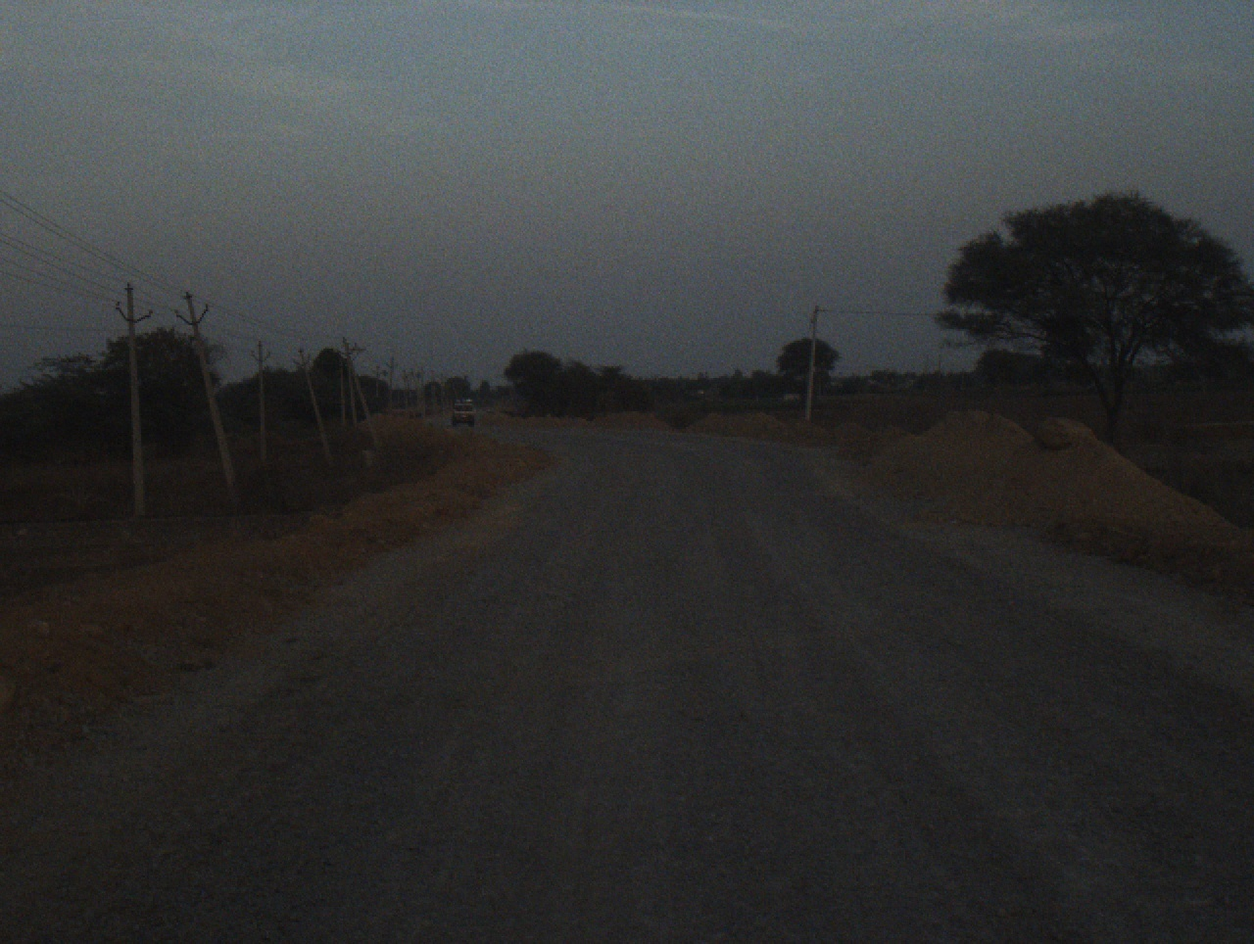car: (451, 399, 479, 431)
